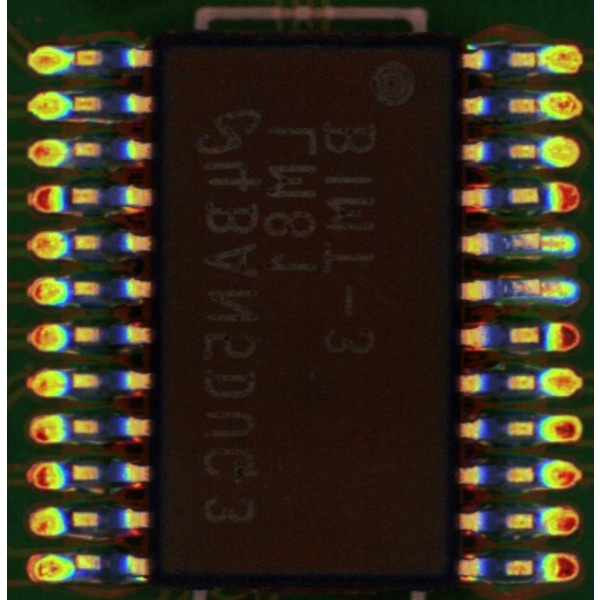Bad_podu: (529, 279, 555, 296), (532, 236, 554, 248)
